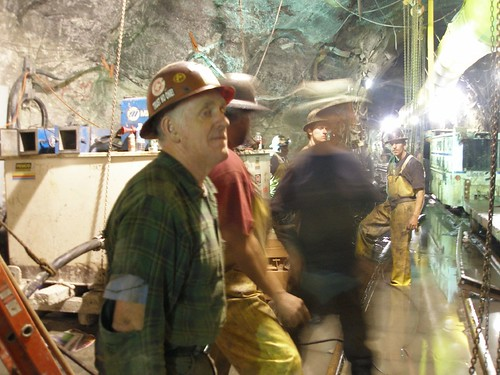person hardhat: (105, 59, 238, 374), (212, 73, 309, 375), (372, 117, 429, 300), (298, 103, 333, 160)
